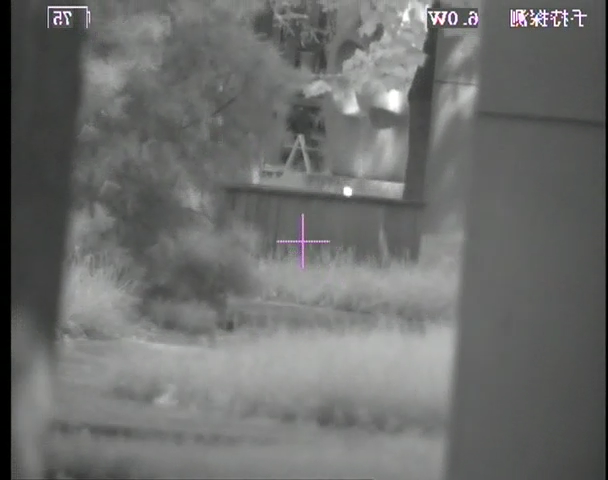my: (342, 185, 353, 198)
